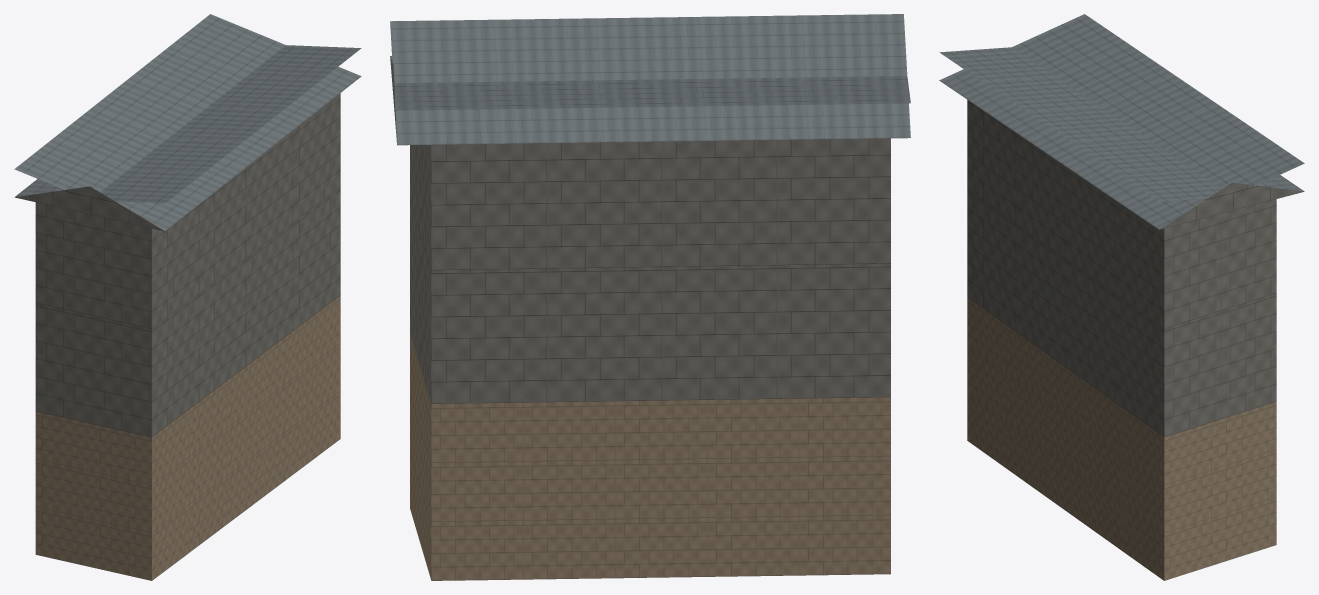
The model's file is bld_c21_46_414.gltf.
3 views of the same model, side by side, from view 1: azimuth 30°, elevation 25°; view 2: azimuth 150°, elevation 25°; view 3: azimuth 270°, elevation 25° (orthographic). The views are drawn at different scales.
Visible parts, largest first — view 1: bld_c21_46_414; view 2: bld_c21_46_414; view 3: bld_c21_46_414.
Boxes of the visible parts, x1=… form: bld_c21_46_414: x1=14, y1=14, x2=361, y2=580; bld_c21_46_414: x1=390, y1=14, x2=910, y2=580; bld_c21_46_414: x1=939, y1=14, x2=1304, y2=580.
Bounding box in the file's own units: 14.32 × 13.8 × 11.79.
4 materials, 4 textured.
